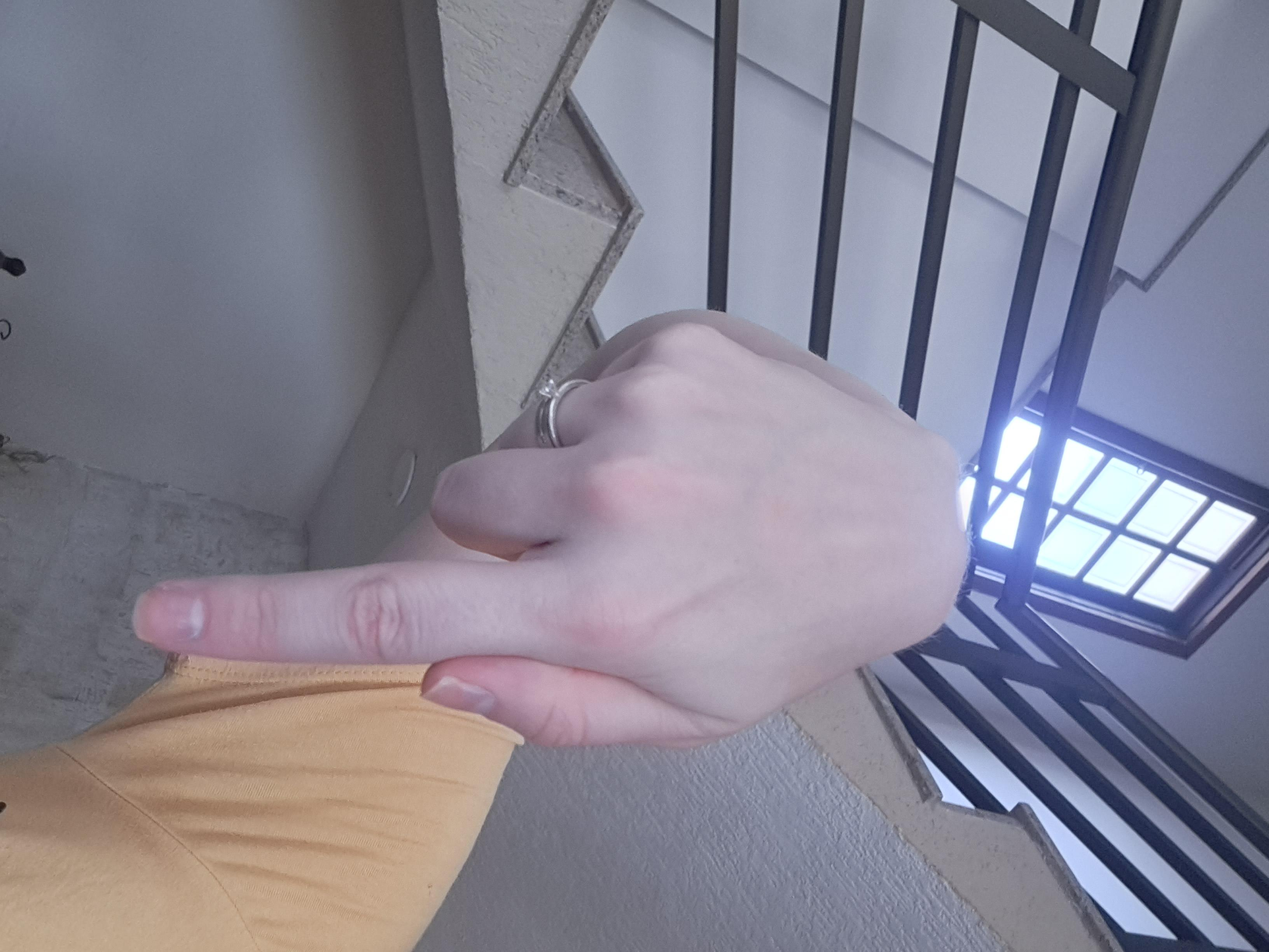Q: (441, 222, 1016, 860)
